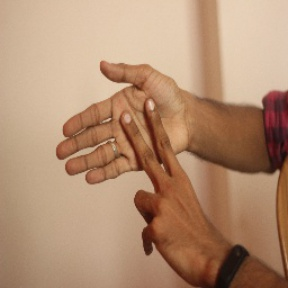N: (51, 54, 209, 246)
